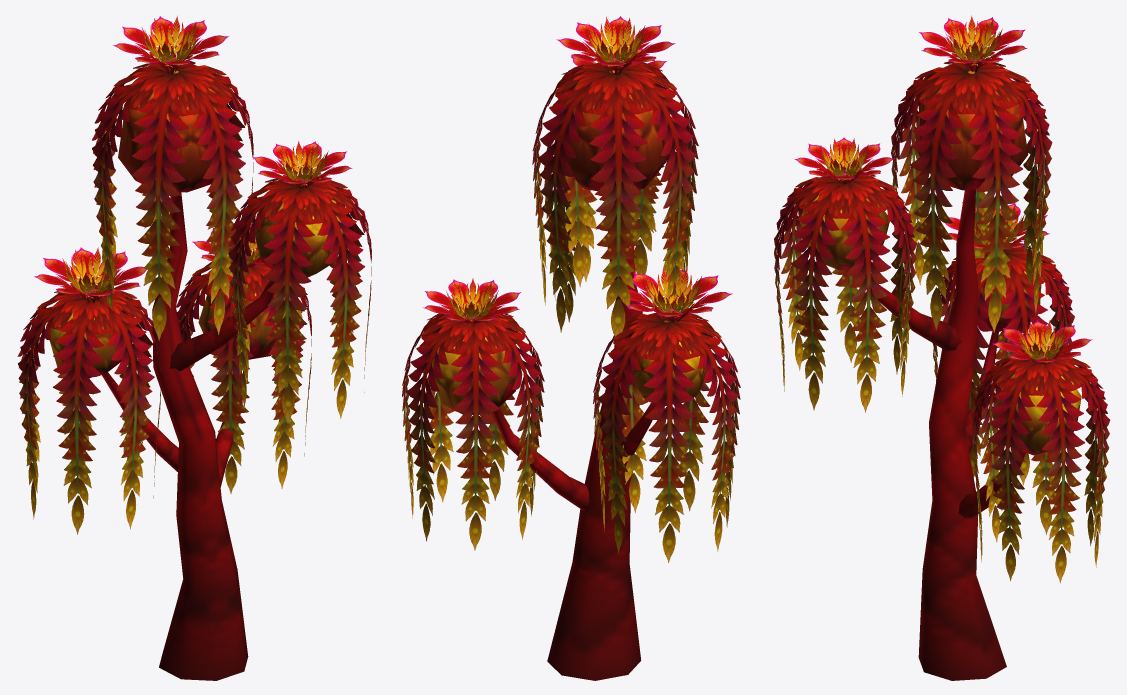
File: Red_Tree_10b.FBX
3 views of the same model, side by side, from view 1: azimuth 30°, elevation 25°; view 2: azimuth 150°, elevation 25°; view 3: azimuth 270°, elevation 25° (orthographic). The views are drawn at different scales.
Visible parts, largest first — view 1: Red_Tree_10b; view 2: Red_Tree_10b; view 3: Red_Tree_10b.
Part boxes in pixels (bbox=[...]): Red_Tree_10b: bbox=[17, 16, 371, 680]; Red_Tree_10b: bbox=[402, 16, 740, 680]; Red_Tree_10b: bbox=[774, 15, 1110, 680].
Bounding box in the file's own units: 184 × 374 × 185.
